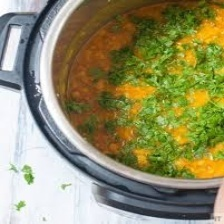sabzi: (60, 1, 224, 180)
